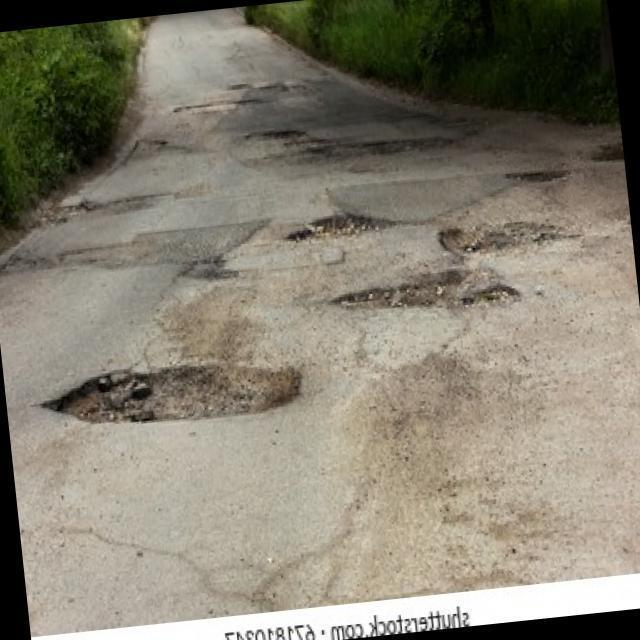pothole: (37, 346, 306, 439), (330, 264, 523, 321), (438, 212, 576, 263), (319, 134, 460, 165), (286, 209, 400, 246), (174, 96, 266, 115), (507, 164, 573, 185), (45, 199, 92, 227), (588, 135, 626, 167), (248, 125, 306, 145)
